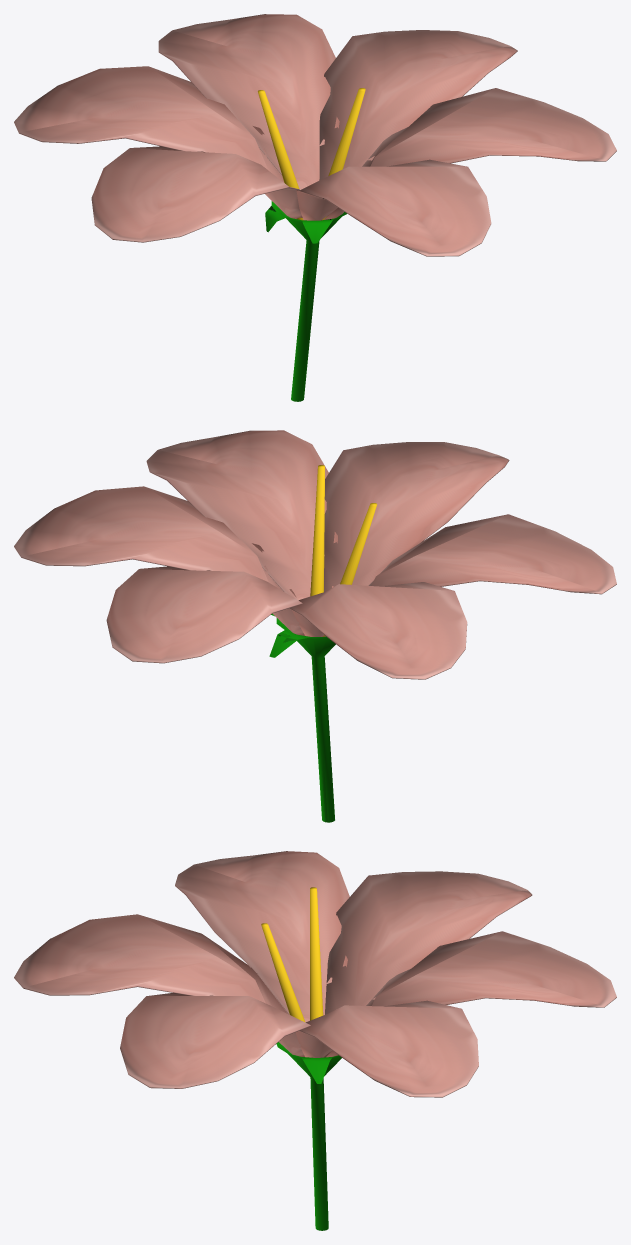
The model's file is FlowerA.fbx.
3 views of the same model, one above another, from view 1: azimuth 30°, elevation 25°; view 2: azimuth 150°, elevation 25°; view 3: azimuth 270°, elevation 25° (orthographic).
Visible parts, largest first — view 1: Circle, Circle.001, Circle.002; view 2: Circle, Circle.001, Circle.002; view 3: Circle, Circle.001, Circle.002.
Part boxes in pixels (x1=…): Circle: x1=14, y1=14, x2=616, y2=256; Circle.001: x1=265, y1=201, x2=346, y2=401; Circle.002: x1=258, y1=88, x2=365, y2=220; Circle: x1=14, y1=430, x2=616, y2=679; Circle.001: x1=269, y1=613, x2=335, y2=822; Circle.002: x1=310, y1=465, x2=377, y2=636; Circle: x1=14, y1=851, x2=616, y2=1097; Circle.001: x1=276, y1=1042, x2=341, y2=1230; Circle.002: x1=261, y1=887, x2=323, y2=1022.
Bounding box in the file's own units: 514 × 319 × 544.
1 material, 1 textured.
